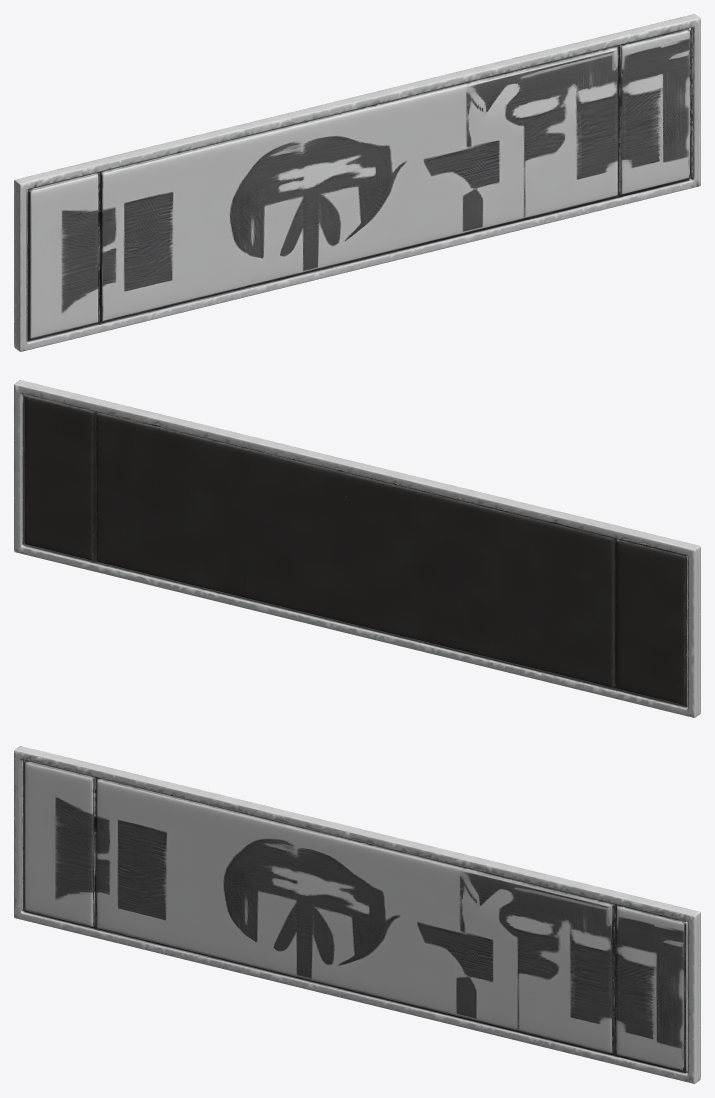
Rendered from HallwayWall.glb.
The picture shows the model from 3 angles, top to bottom: view 1: azimuth 30°, elevation 25°; view 2: azimuth 150°, elevation 25°; view 3: azimuth 330°, elevation 25°; orthographic projection.
Bounding box in the file's own units: 2 × 0.4718 × 0.0331.
Materials: 1 (1 with a texture image).
